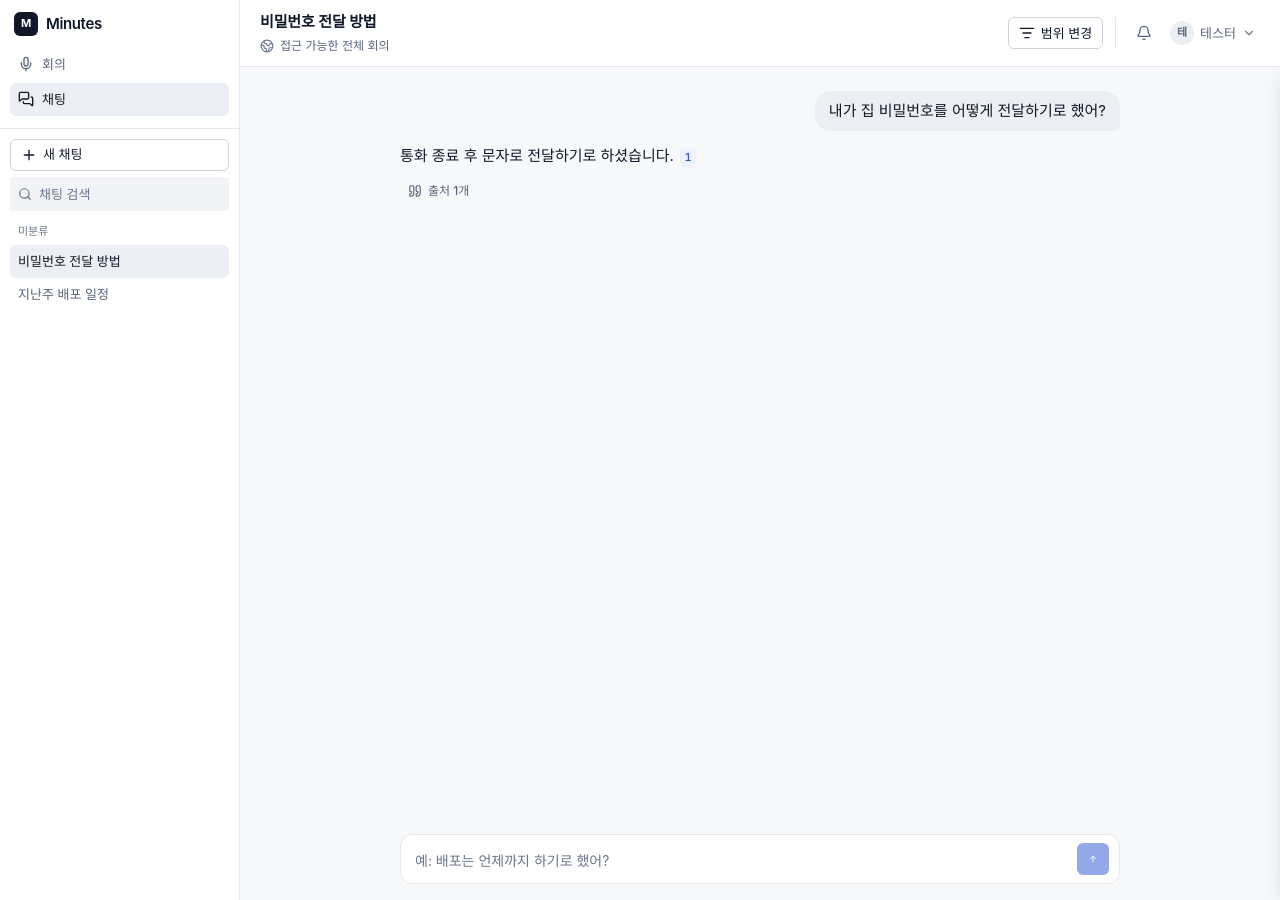
채팅 › 선택한 범위에서 못 찾으면 스스로 전체 검색하지 않고 물어본다
Step 1. Type "배포 일정은?" into the text box named "질문" → (740, 861), box top-left (411, 847), bottom-right (1069, 875)
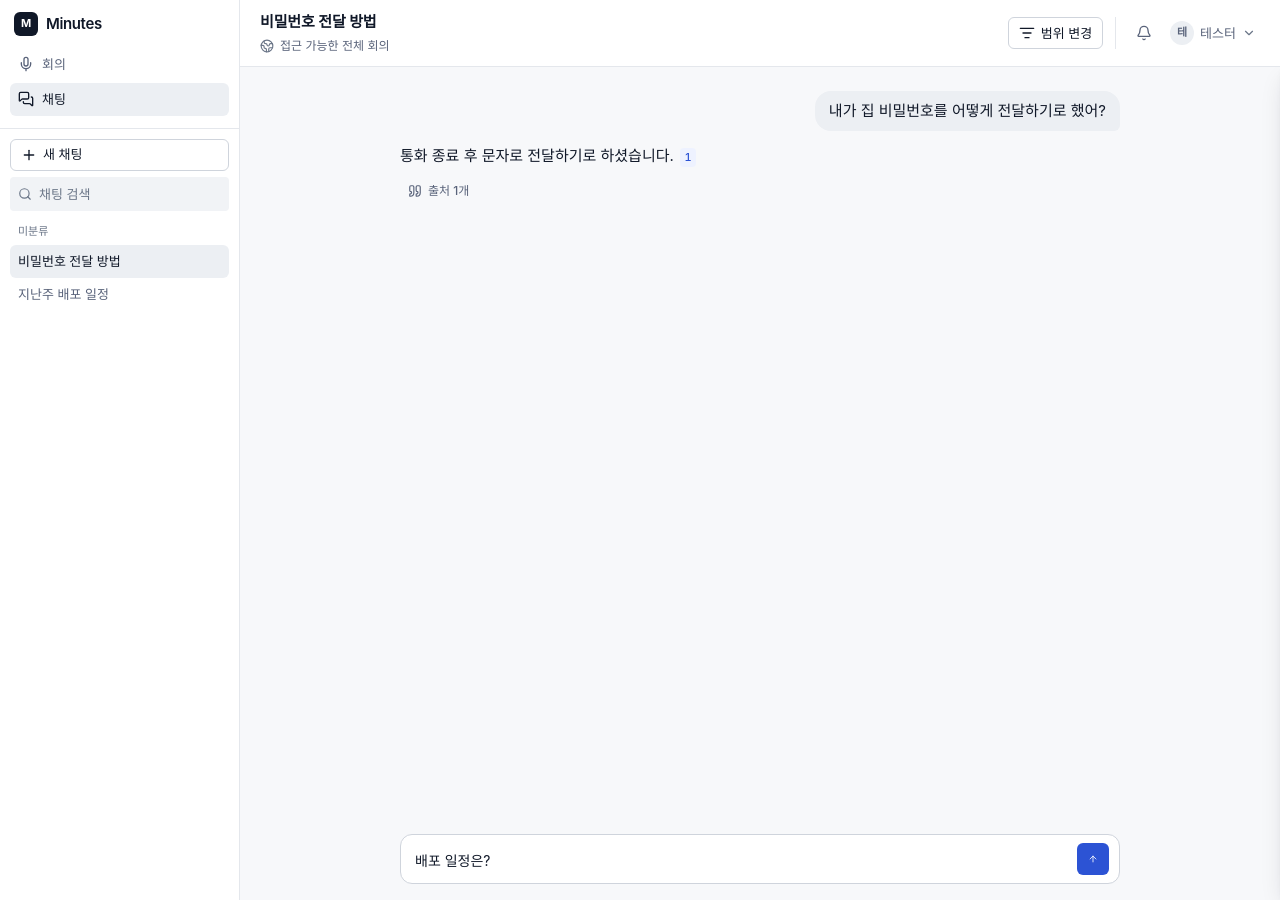
Step 2. Click the button named "질문 보내기" → click(1093, 859), box top-left (1077, 843), bottom-right (1109, 875)
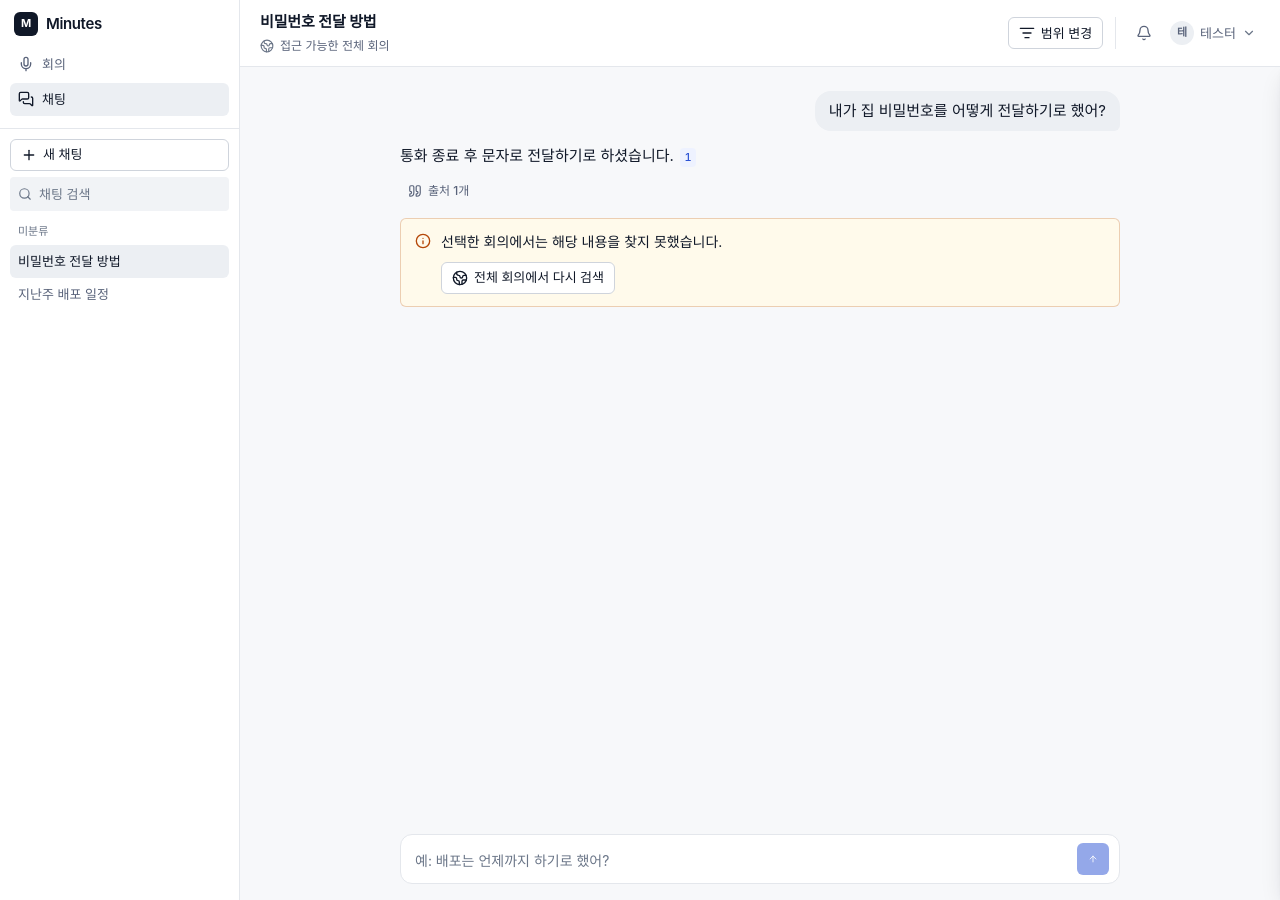
Expected: the text "선택한 회의에서는 해당 내용을 찾지 못했습니다." is shown, top-left (441, 233), bottom-right (722, 250)
Expected: the button "전체 회의에서 다시 검색" is shown, top-left (441, 262), bottom-right (615, 294)
